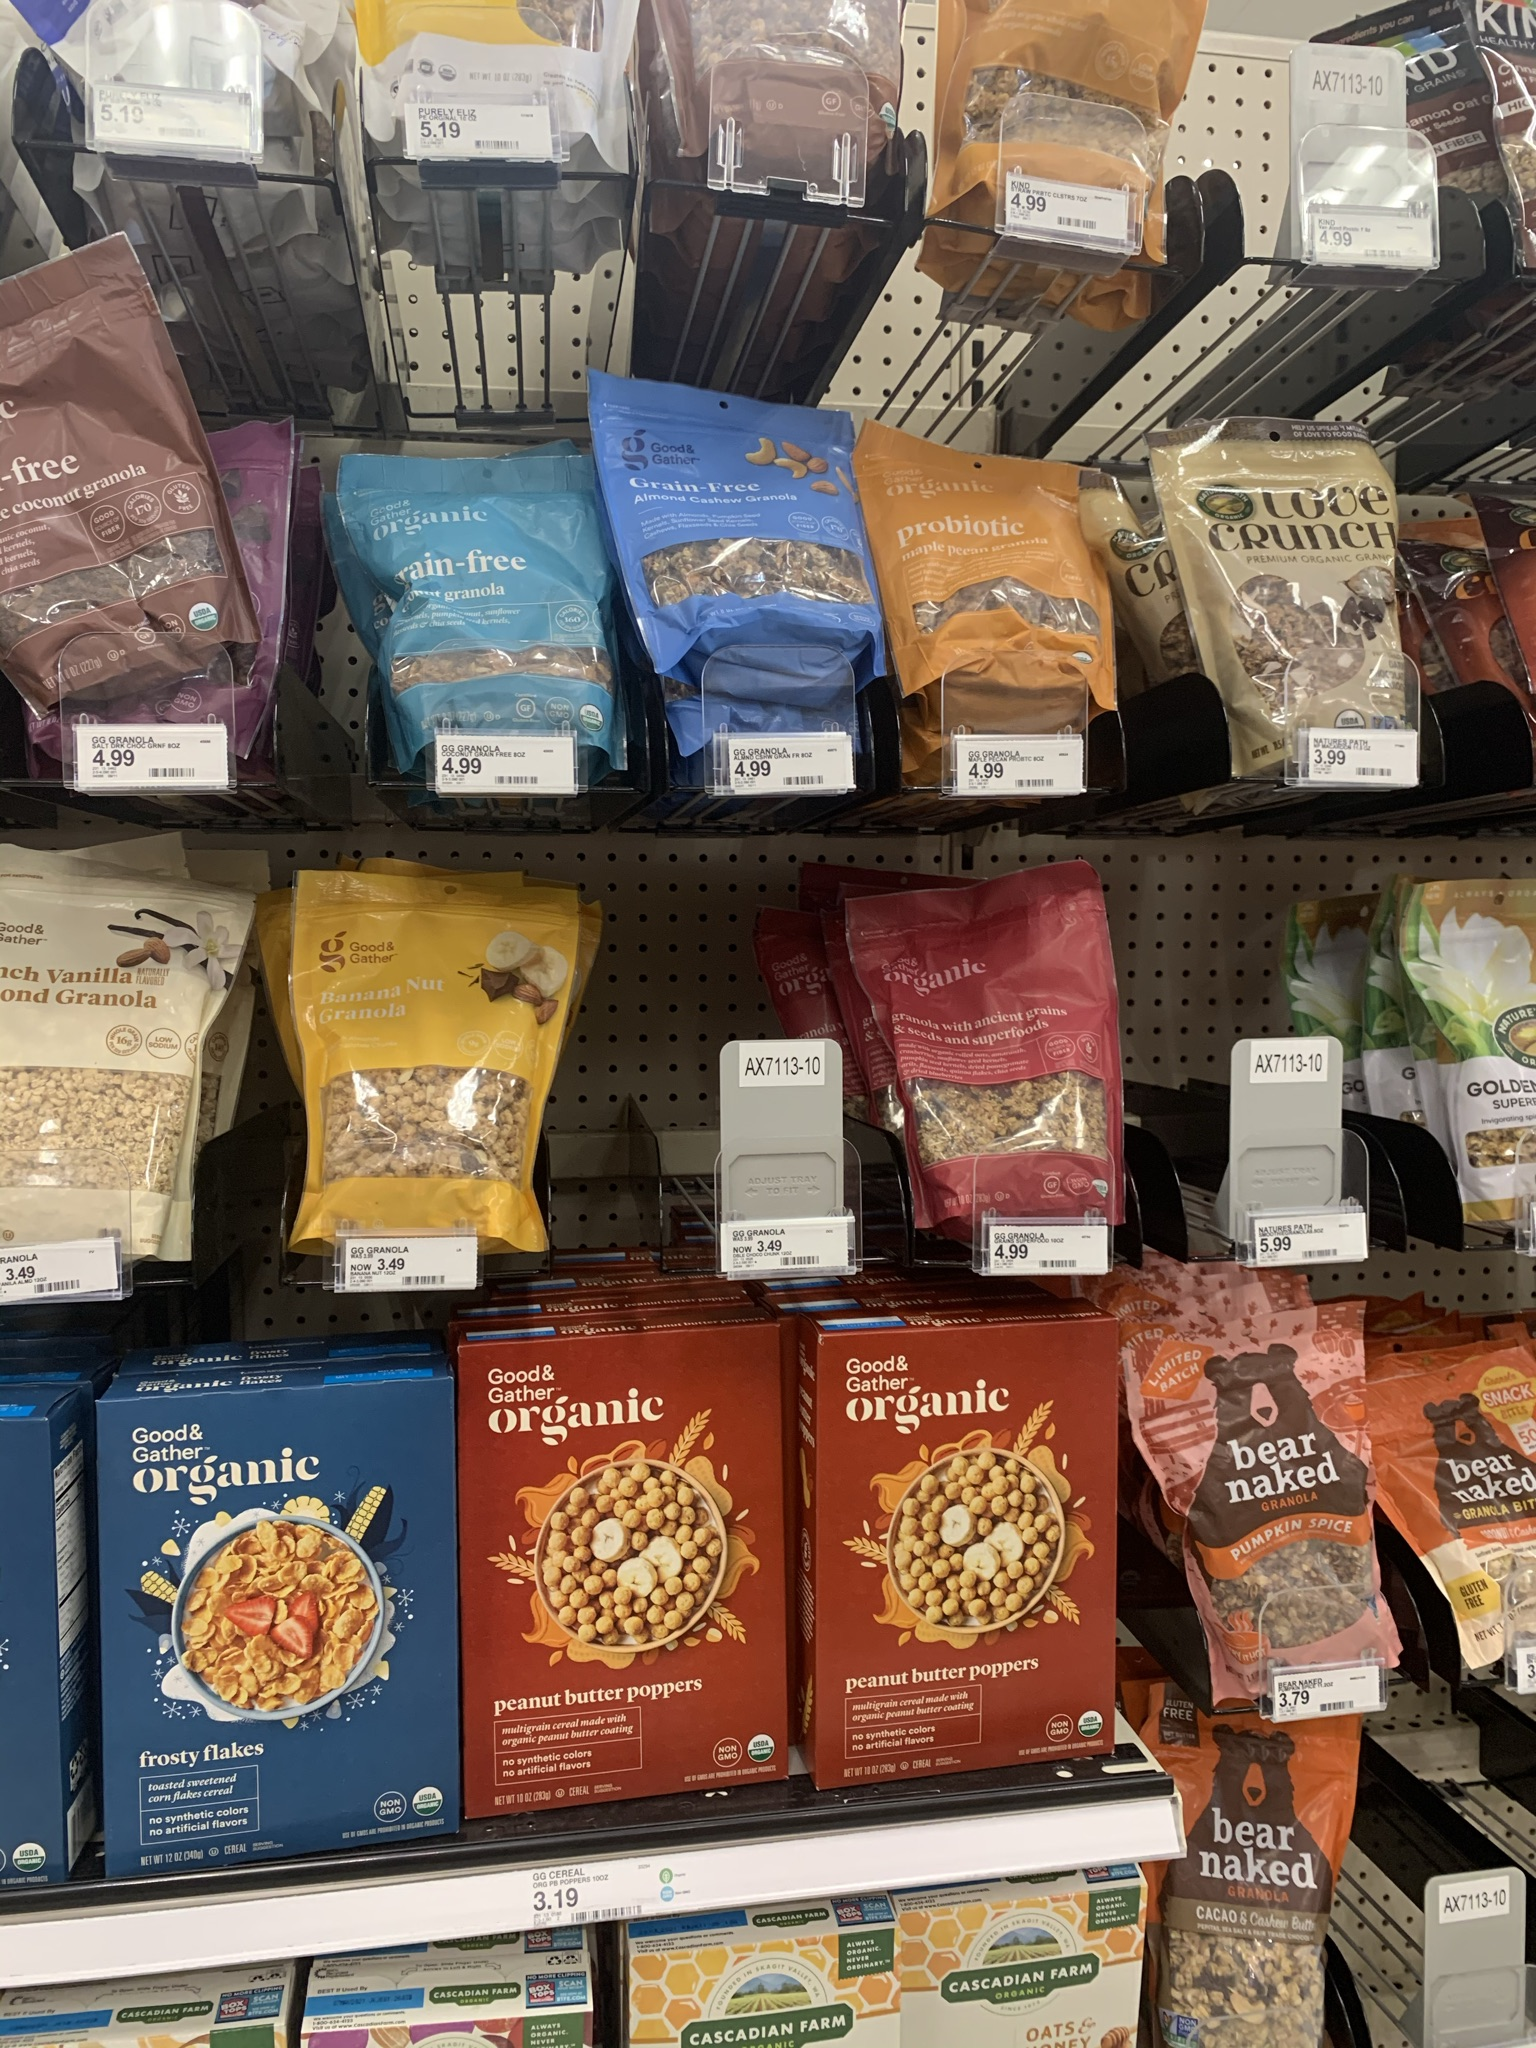Cereal cascadian: (942, 1904, 1147, 2046), (632, 1956, 897, 2048)
Cereal good and gather: (106, 1416, 457, 1800), (473, 1361, 794, 1750), (833, 1343, 1129, 1756)
Nuts: (11, 316, 266, 805), (603, 381, 894, 766), (874, 893, 1163, 1261), (302, 871, 578, 1255), (1163, 435, 1439, 764), (1163, 1342, 1397, 1706), (879, 443, 1133, 779), (361, 461, 624, 760), (15, 901, 202, 1292), (1197, 1769, 1347, 2048)
